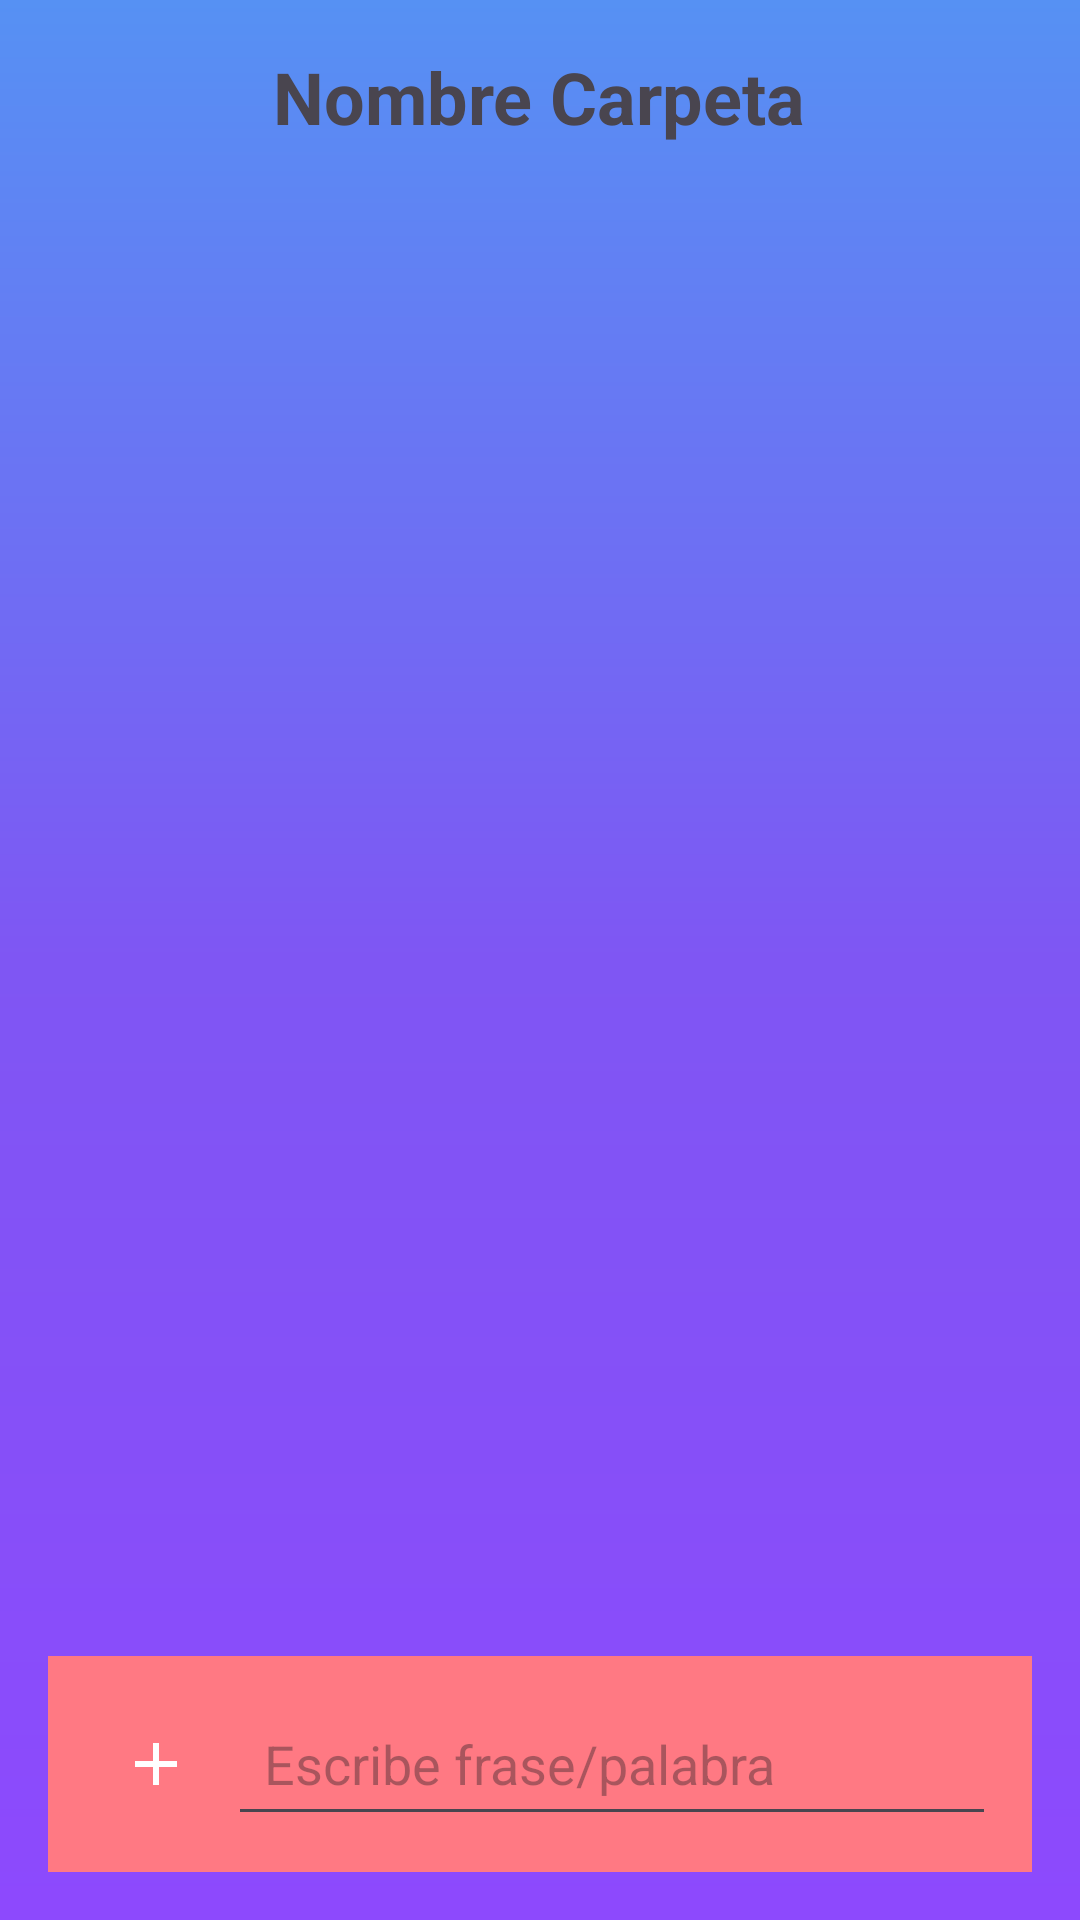

Named icons in this screenshot (1080px×1920px) and their centers, point (x, y):
Agregar frase: point (156, 1764)
